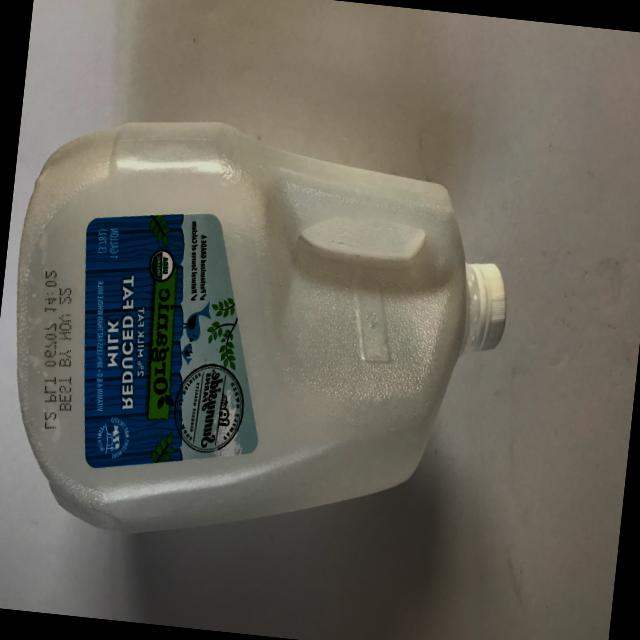Plastic: (0, 73, 534, 583)
